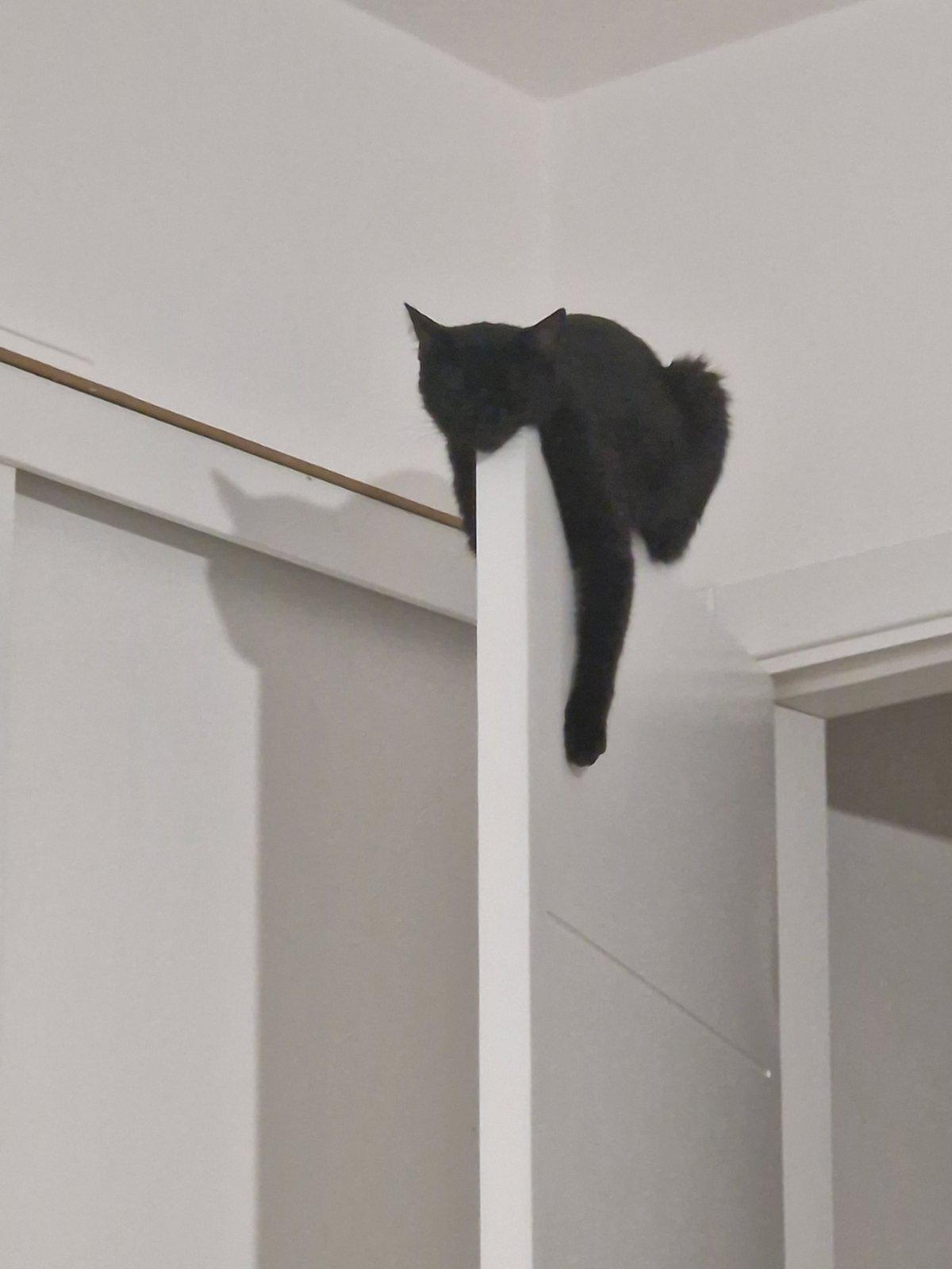macka: (397, 294, 740, 772)
